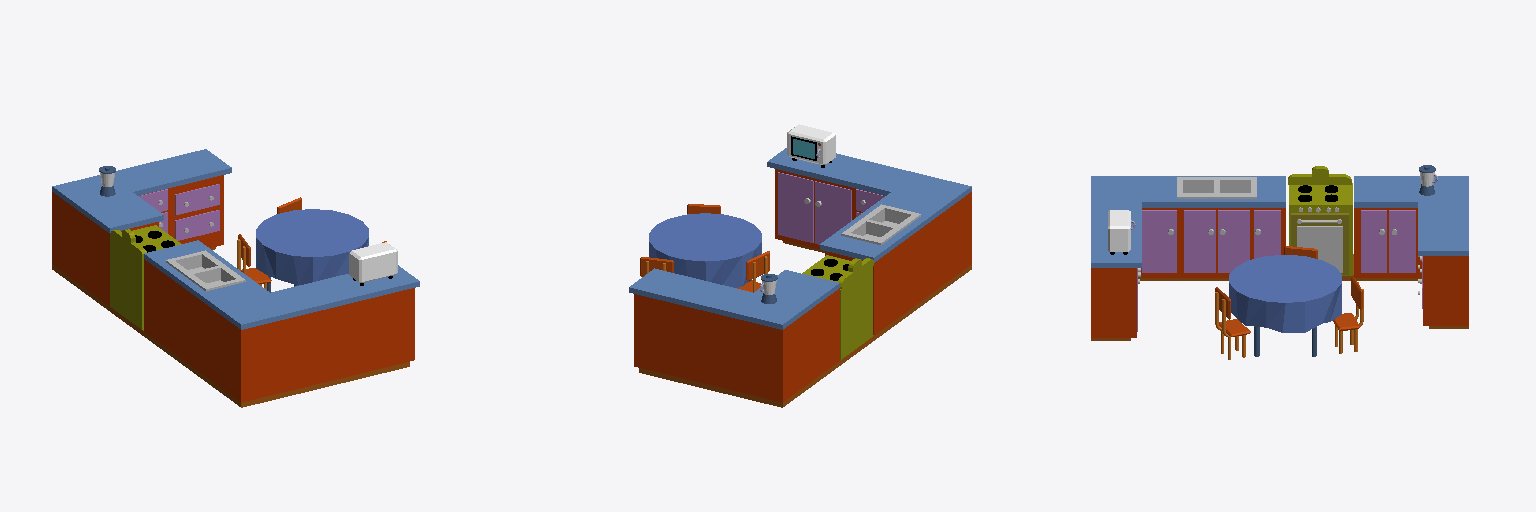
3 renders of one model, left to right at view 1: azimuth 30°, elevation 25°; view 2: azimuth 150°, elevation 25°; view 3: azimuth 270°, elevation 25°, orthographic.
Parts seen in each view (by area): view 1: Box001, Box002, Cylinder027, Box016, Box018, Box017, Box019, Box015, Box024, Box036, Box003, Box033 (+4 smaller); view 2: Box001, Box003, Cylinder027, Box016, Box018, Box017, Box019, Box015, Box014, Box013, Box024, Box033 (+3 smaller); view 3: Cylinder027, Box016, Box002, Box003, Box018, Box001, Box019, Box017, Box028, Box025, Box026, Box024 (+11 smaller).
Part boxes in pixels (x1,y1,x2,y2): Box001: (52,192,290,402); Box002: (291,288,414,390); Cylinder027: (256,209,368,285); Box016: (144,240,295,329); Box018: (52,175,163,232); Box017: (271,265,419,316); Box019: (114,149,231,195); Box015: (110,225,180,329); Box024: (166,250,245,290); Box036: (349,242,397,282); Box003: (140,175,223,247); Box033: (52,264,285,407); Box001: (733,192,971,402); Box003: (634,294,732,390); Cylinder027: (649,213,761,287); Box016: (820,173,971,262); Box018: (728,270,839,329); Box017: (767,148,916,195); Box019: (629,268,752,316); Box015: (802,255,872,359); Box014: (778,172,813,242); Box013: (815,181,851,244); Box024: (841,204,920,244); Box033: (738,264,971,407); Cylinder027: (1229,255,1341,332); Box016: (1091,176,1285,207); Box002: (1091,268,1136,337); Box003: (1423,256,1468,325); Box018: (1354,176,1468,207); Box001: (1141,208,1421,277); Box019: (1418,202,1468,255); Box017: (1091,202,1141,267); Box028: (1142,210,1176,272); Box025: (1184,210,1215,272); Box026: (1218,210,1249,272); Box024: (1177,177,1256,198).
Bounding box in the file's own units: 22.1 × 10.8 × 33.
16 materials, 15 textured.